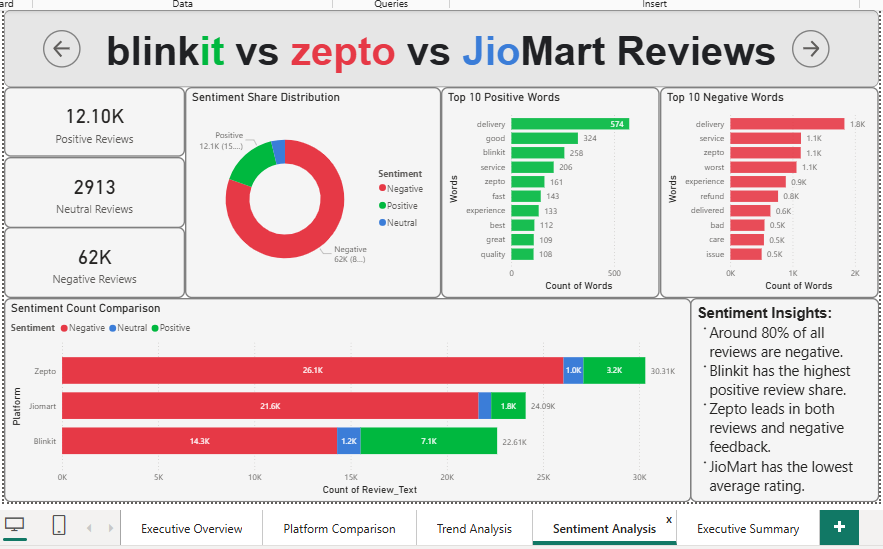

Layout of this report page (visuals, bound fields, positions):
{"tool":"powerbi","page":{"name":"Sentiment Analysis","canvas":[1280,720],"ordinal":3},"visuals":[{"type":"textbox","box":[0,0,1280,112.7],"z":0},{"type":"donutChart","title":"Sentiment Share Distribution","fields":{"Category":["Reviews.Sentiment"],"Y":["CountNonNull(Reviews.Review_Text)"]},"box":[264.9,112.7,374.6,308.8],"z":1000},{"type":"barChart","title":"Sentiment Count Comparison","fields":{"Category":["Platform.Platform"],"Series":["Reviews.Sentiment"],"Y":["CountNonNull(Reviews.Review_Text)"]},"box":[0,421.5,1006,298.5],"z":2000},{"type":"actionButton","box":[57.2,28.6,55.4,55.4],"z":3000},{"type":"card","fields":{"Values":["Table of Measures.Positive Reviews"]},"box":[0,112.7,264.9,102.4],"z":4000},{"type":"card","fields":{"Values":["Table of Measures.Neutral Reviews"]},"box":[0,215.1,264.9,103.9],"z":5000},{"type":"card","fields":{"Values":["Table of Measures.Negative Reviews"]},"box":[0,317.6,264.9,103.9],"z":6000},{"type":"textbox","box":[1003.9,421.5,277,298.5],"z":7000},{"type":"actionButton","box":[1153.1,28.6,55.4,55],"z":8000},{"type":"clusteredBarChart","title":"Top 10 Positive Words","fields":{"Category":["Reviews.Words"],"Y":["CountNonNull(Reviews.Words)"]},"box":[639.5,112.7,320.5,308.8],"z":9000},{"type":"clusteredBarChart","title":"Top 10 Negative Words","fields":{"Category":["Reviews.Words"],"Y":["CountNonNull(Reviews.Words)"]},"box":[960,112.7,320.5,308.8],"z":10000}]}

Visuals, with their boxes in screenshot pixels (x1, y1, x2, y2):
textbox: 5:9:875:86
"Sentiment Share Distribution" donutChart: 185:86:440:296
"Sentiment Count Comparison" barChart: 5:296:689:499
actionButton: 44:29:81:66
card - Table of Measures.Positive Reviews: 5:86:185:156
card - Table of Measures.Neutral Reviews: 5:156:185:226
card - Table of Measures.Negative Reviews: 5:225:185:296
textbox: 688:296:876:499
actionButton: 789:29:827:66
"Top 10 Positive Words" clusteredBarChart: 440:86:658:296
"Top 10 Negative Words" clusteredBarChart: 658:86:876:296
